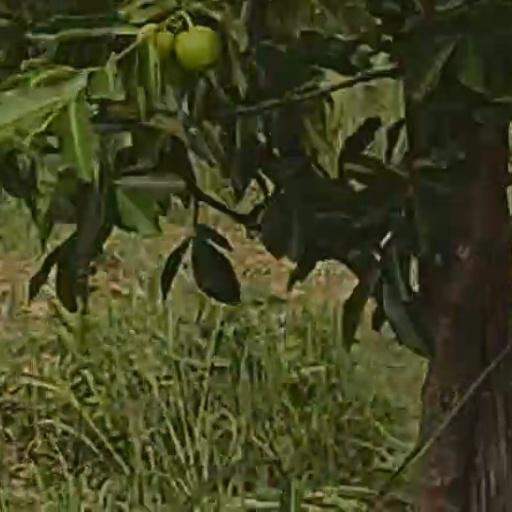acerola_verde: (176, 29, 219, 68), (142, 23, 175, 56)
